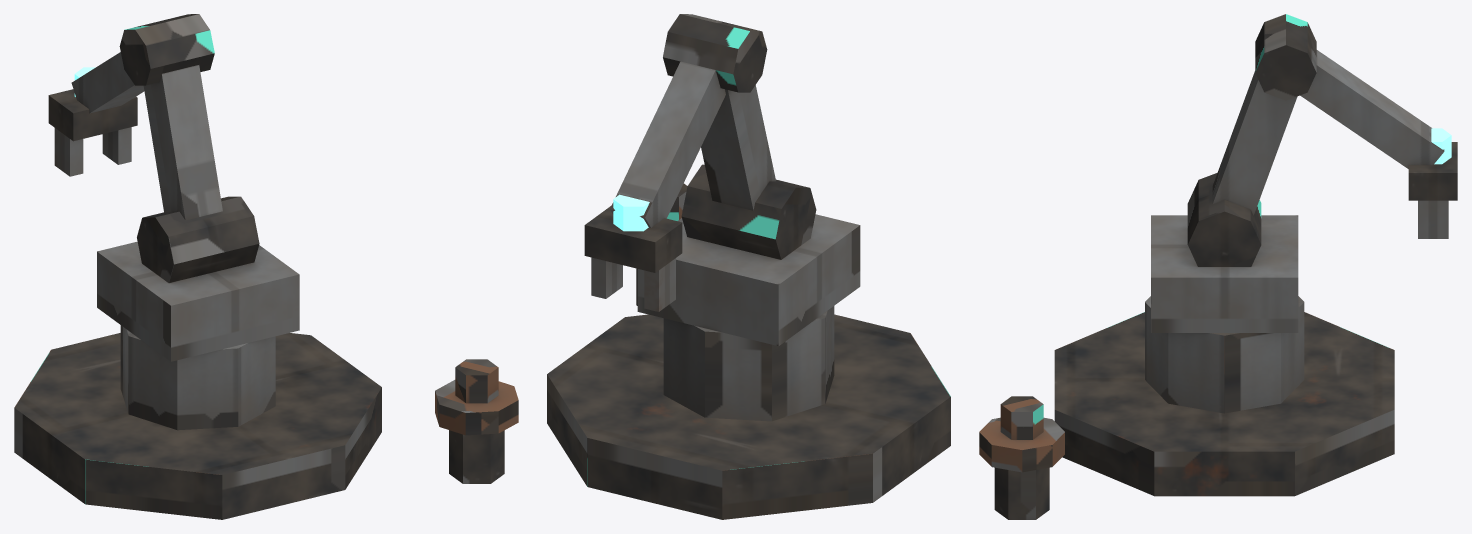
The model's file is braco_rapido.glb.
3 views of the same model, side by side, from view 1: azimuth 30°, elevation 25°; view 2: azimuth 150°, elevation 25°; view 3: azimuth 270°, elevation 25° (orthographic). The views are drawn at different scales.
Visible parts, largest first — view 1: braco_rapido_base, braco_rapido_giro, braco_rapido_braco1, braco_rapido_garra, braco_rapido_braco2; view 2: braco_rapido_base, braco_rapido_giro, braco_rapido_braco1, braco_rapido_braco2, braco_rapido_garra; view 3: braco_rapido_base, braco_rapido_giro, braco_rapido_braco1, braco_rapido_braco2, braco_rapido_garra.
Boxes of the visible parts, x1=… form: braco_rapido_base: x1=14, y1=325, x2=518, y2=519; braco_rapido_giro: x1=97, y1=196, x2=299, y2=361; braco_rapido_braco1: x1=119, y1=14, x2=222, y2=220; braco_rapido_garra: x1=48, y1=67, x2=137, y2=176; braco_rapido_braco2: x1=71, y1=52, x2=144, y2=113; braco_rapido_base: x1=547, y1=183, x2=950, y2=519; braco_rapido_giro: x1=637, y1=164, x2=860, y2=346; braco_rapido_braco1: x1=663, y1=14, x2=775, y2=210; braco_rapido_braco2: x1=610, y1=61, x2=725, y2=227; braco_rapido_garra: x1=584, y1=194, x2=682, y2=311; braco_rapido_base: x1=979, y1=296, x2=1394, y2=519; braco_rapido_giro: x1=1151, y1=173, x2=1298, y2=332; braco_rapido_braco1: x1=1212, y1=14, x2=1316, y2=215; braco_rapido_braco2: x1=1300, y1=50, x2=1444, y2=168; braco_rapido_garra: x1=1408, y1=128, x2=1457, y2=238.
Bounding box in the file's own units: 0.6772 × 0.71 × 0.78.
Materials: 2 (1 with a texture image).
